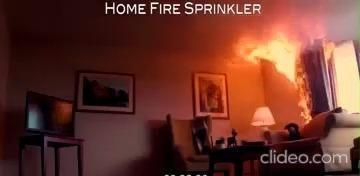fire: (229, 19, 327, 118)
